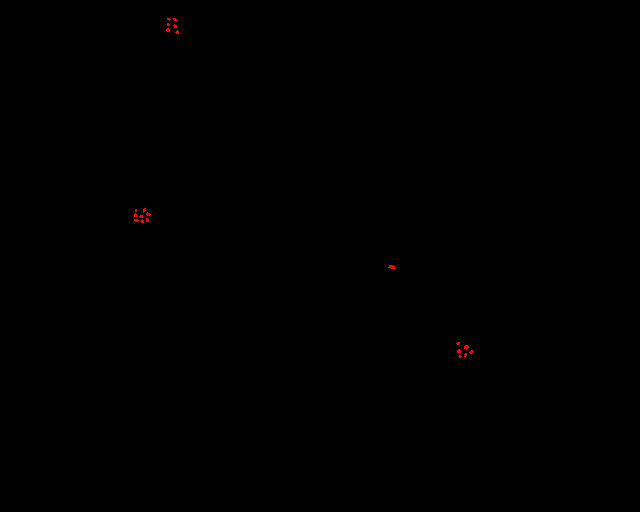Target: (388, 265, 395, 269), (464, 345, 469, 350), (146, 212, 151, 216), (469, 350, 474, 354), (173, 24, 177, 28), (166, 28, 170, 32), (175, 30, 179, 34), (140, 219, 144, 223), (457, 349, 461, 353), (143, 208, 146, 213), (134, 219, 139, 222), (167, 18, 171, 21), (173, 18, 177, 21), (134, 213, 137, 217), (139, 215, 143, 218), (146, 218, 149, 222), (456, 342, 460, 345), (464, 353, 467, 357), (167, 23, 170, 26), (459, 355, 462, 358), (135, 209, 137, 212)
